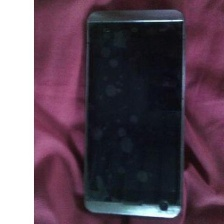phone: (78, 2, 189, 221)
